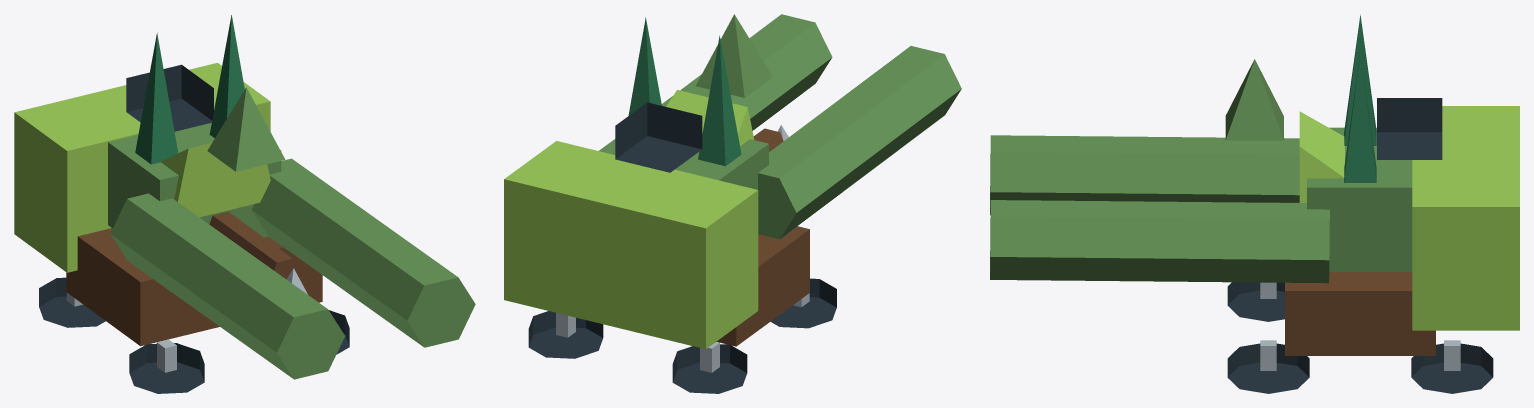
The model's file is heavy-war-machine.obj.
The picture shows the model from 3 angles, left to right: view 1: azimuth 30°, elevation 25°; view 2: azimuth 150°, elevation 25°; view 3: azimuth 270°, elevation 25°; orthographic projection. The views are drawn at different scales.
Visible parts, largest first — view 1: siege; view 2: siege; view 3: siege.
Part boxes in pixels (x1,y1,x2,y2): siege: (14,15,475,393); siege: (504,14,961,393); siege: (990,14,1519,393).
Bounding box in the file's own units: 1.36 × 1.87 × 2.91.
